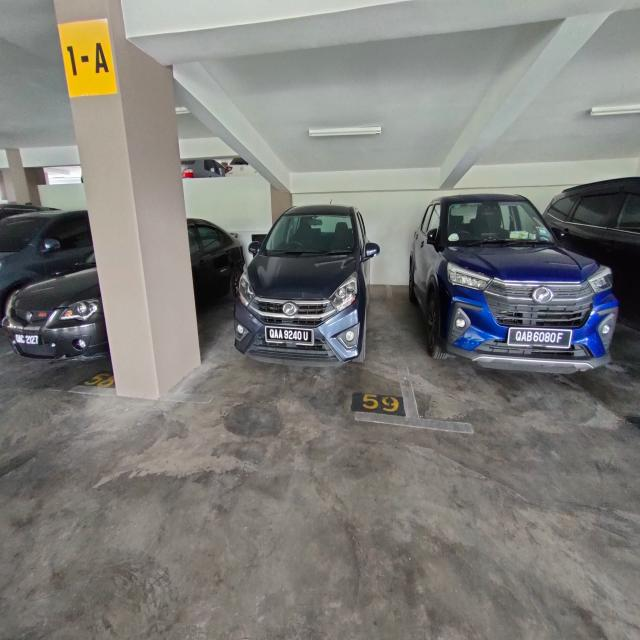PeroduaAtiva: (398, 189, 618, 366)
PeroduaMyvi: (232, 198, 361, 370)
